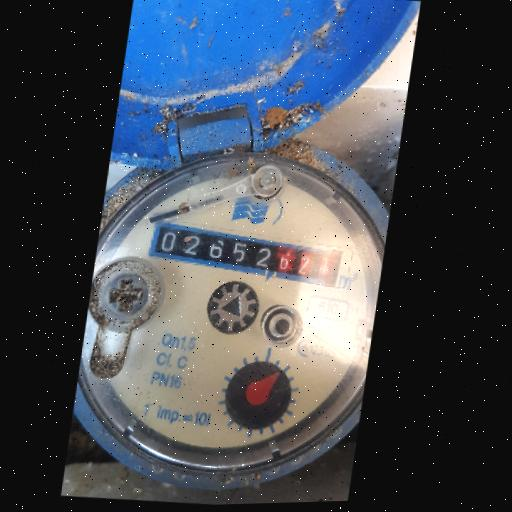0: (155, 225, 183, 255)
1: (312, 247, 344, 286)
2: (176, 229, 208, 260), (292, 248, 322, 279), (248, 242, 278, 272)
5: (224, 237, 254, 268)
6: (201, 234, 231, 265), (271, 245, 297, 275)
border_water_meter_number: (143, 211, 359, 295)
